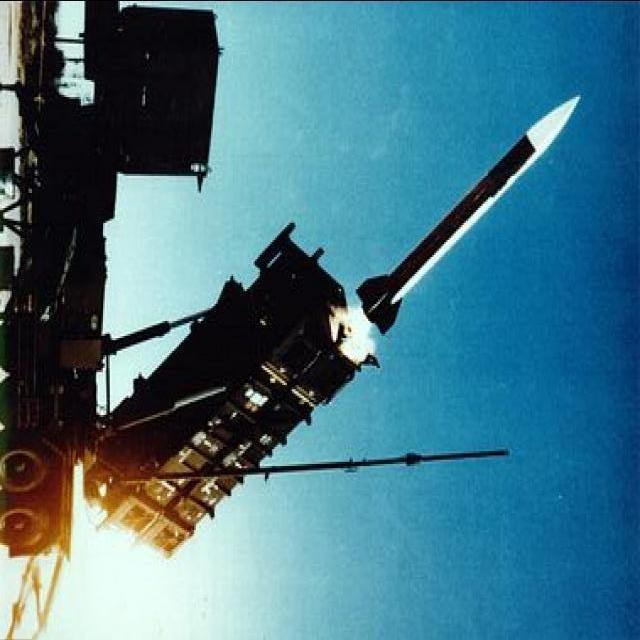missile: (354, 93, 581, 337)
